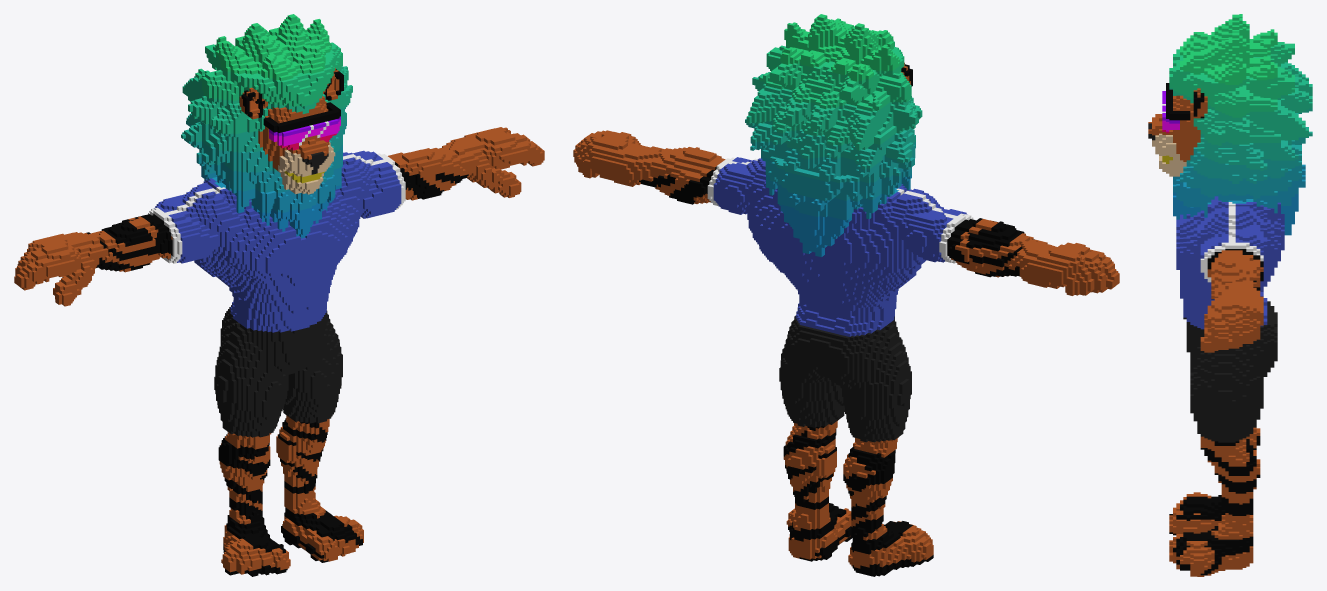
The model's file is 375-CjmEfouz.glb.
3 renders of one model, left to right at view 1: azimuth 30°, elevation 25°; view 2: azimuth 150°, elevation 25°; view 3: azimuth 270°, elevation 25°, orthographic. The views are drawn at different scales.
Parts seen in each view (by area): view 1: gold_smile; view 2: gold_smile; view 3: gold_smile.
Boxes of the visible parts, x1,y1,x2,y2 form: gold_smile: (14, 14, 544, 576); gold_smile: (573, 14, 1119, 576); gold_smile: (1148, 14, 1312, 576).
Size of the model in its own units: 17.2 by 16.5 by 4.7.
Materials: 5 (5 with a texture image).
